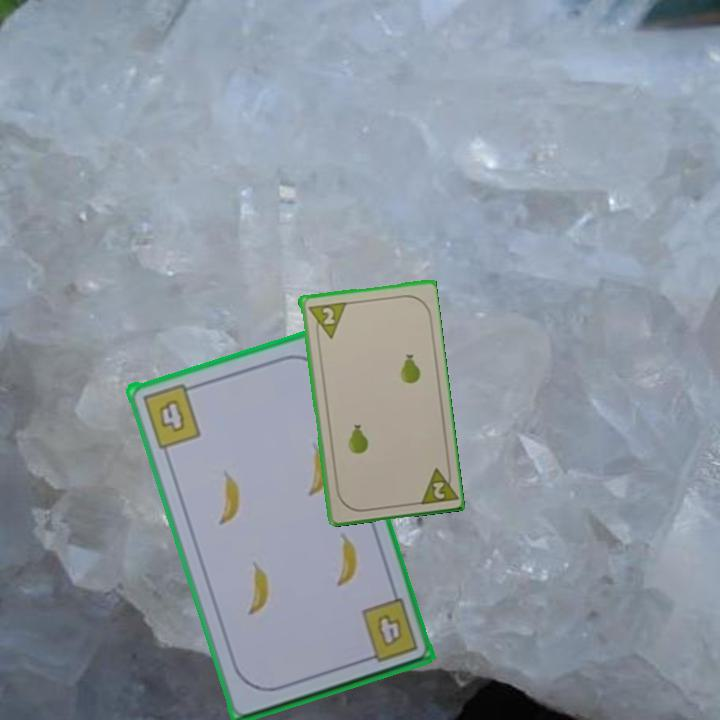2p: (414, 462, 459, 507), (318, 303, 337, 327)
4b: (138, 379, 204, 451), (372, 609, 405, 650)
